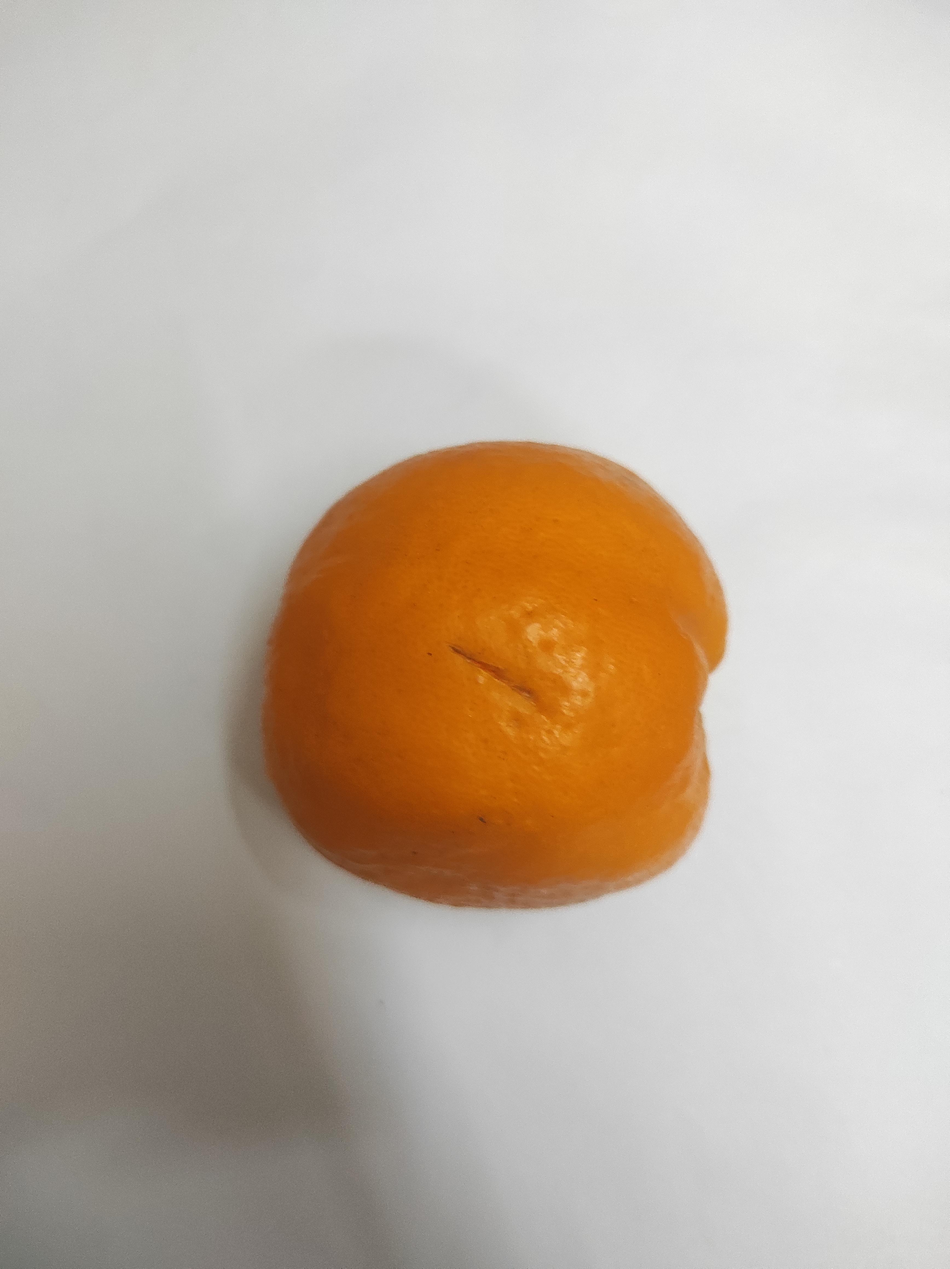Orange Ripe: (190, 585, 549, 1207)
